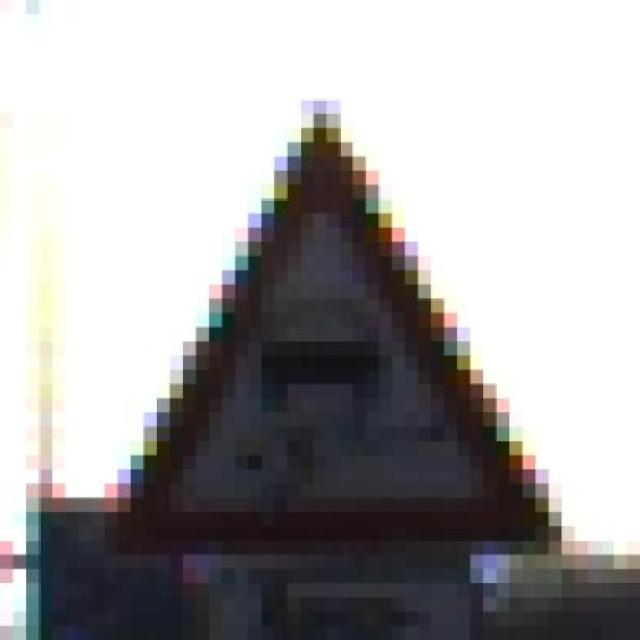Slippery Road Ahead: (91, 85, 574, 569)
